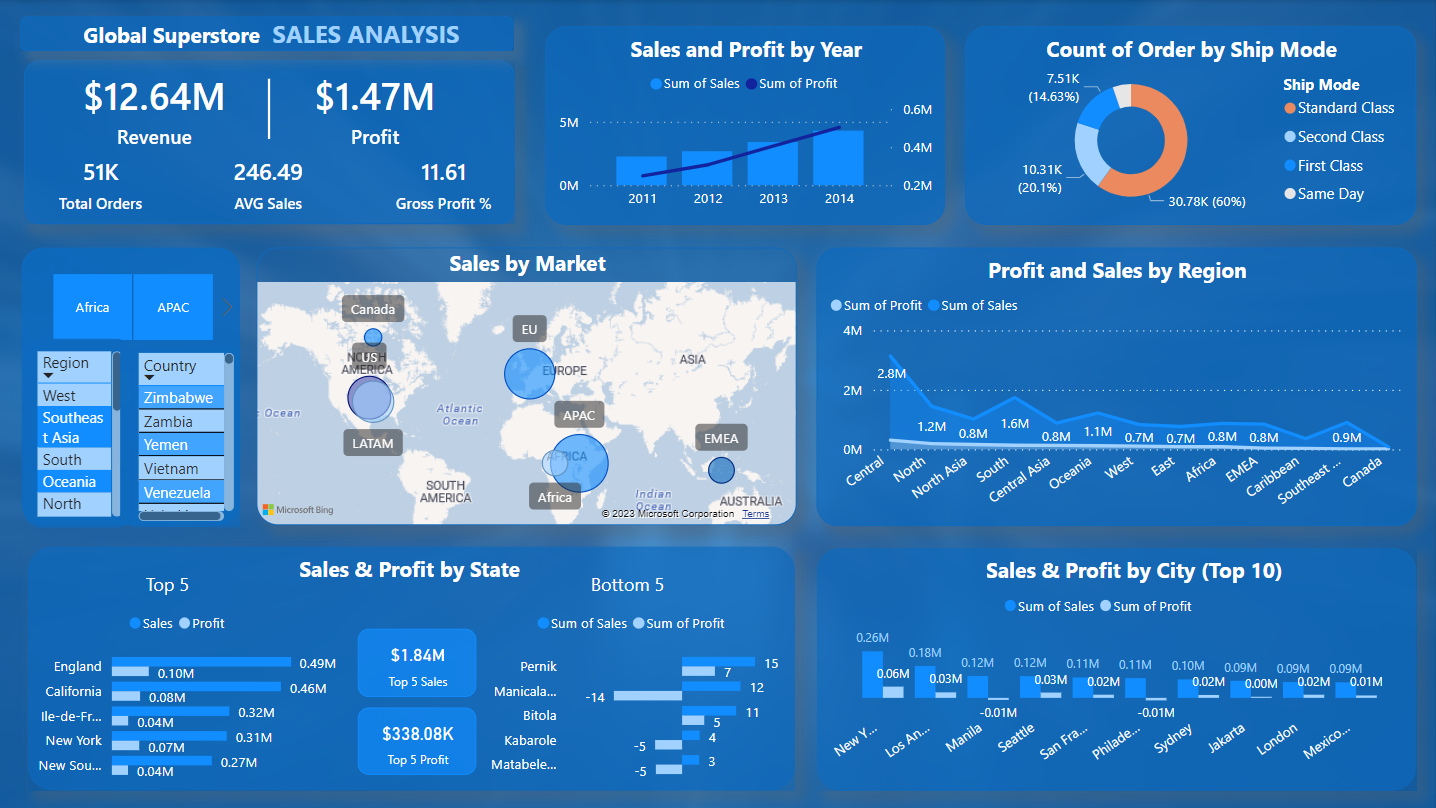

Layout of this report page (visuals, bound fields, positions):
{"tool":"powerbi","page":{"name":"Page 1","canvas":[1280,720],"ordinal":0},"visuals":[{"type":"shape","box":[0,0,1279.3,720.4],"z":0},{"type":"shape","box":[22.1,53.4,436.9,146.4],"z":1000},{"type":"shape","title":"Shape","box":[26,486.3,683.6,217.8],"z":2000},{"type":"shape","box":[19.8,220.8,194,247.5],"z":3000},{"type":"card","title":"Revenue","fields":{"Values":["Global Superstore - Orders.Total sales"]},"box":[37.2,50,203.3,93],"z":4000},{"type":"card","fields":{"Values":["Global Superstore - Orders.sum of profit"]},"box":[231.2,50,206.8,93],"z":5000},{"type":"card","fields":{"Values":["Global Superstore - Orders.Total Orders"]},"box":[22.1,126.7,135.9,72],"z":6000},{"type":"shape","box":[727.4,487.7,534.2,216.4],"z":7000},{"type":"card","fields":{"Values":["Global Superstore - Orders.Gross Profit %"]},"box":[332.3,126.7,126.7,72],"z":8000},{"type":"card","fields":{"Values":["Global Superstore - Orders.AVG Sales"]},"box":[170.8,126.7,138.3,72],"z":9000},{"type":"lineStackedColumnComboChart","title":"Sales and Profit by Year","fields":{"Category":["Global Superstore - Orders.Order Date.Variation.Date Hierarchy.Year"],"Y2":["Sum(Global Superstore - Orders.Profit)"],"Y":["Sum(Global Superstore - Orders.Sales)"]},"box":[486.3,23.3,356.2,176.7],"z":10000},{"type":"donutChart","title":"Count of Order by Ship Mode","fields":{"Category":["Global Superstore - Orders.Ship Mode"],"Y":["CountNonNull(Global Superstore - Orders.Order ID)"]},"box":[860.3,23.3,401.4,176.7],"z":11000},{"type":"slicer","fields":{"Values":["Global Superstore - Orders.Market"]},"box":[21.8,236.8,192,72.4],"z":12000},{"type":"stackedAreaChart","title":"Profit and Sales by Region","fields":{"Category":["Global Superstore - Orders.Region"],"Y":["Sum(Global Superstore - Orders.Profit)","Sum(Global Superstore - Orders.Sales)"]},"box":[727.4,220.5,534.2,247.9],"z":13000},{"type":"map","title":"Sales by Market","fields":{"Size":["Sum(Global Superstore - Orders.Sales)"],"Category":["Global Superstore - Orders.Market"]},"box":[228.9,220.8,481,247.5],"z":14000},{"type":"tableEx","fields":{"Values":["Global Superstore - Orders.Country"]},"box":[118.4,309.2,96.6,159.8],"z":15000},{"type":"tableEx","fields":{"Values":["Global Superstore - Orders.Region"]},"box":[21.8,301.1,96.6,167.8],"z":16000},{"type":"clusteredBarChart","fields":{"Category":["Global Superstore - Orders.State"],"Y":["Sum(Global Superstore - Orders.Sales)","Sum(Global Superstore - Orders.Profit)"]},"box":[16.1,535.6,289.7,169],"z":17000},{"type":"clusteredBarChart","fields":{"Y":["Sum(Global Superstore - Orders.Sales)","Sum(Global Superstore - Orders.Profit)"],"Category":["Global Superstore - Orders.State"]},"box":[419.2,535.6,290.4,168.5],"z":18000},{"type":"clusteredColumnChart","fields":{"Category":["Global Superstore - Orders.City"],"Y":["Sum(Global Superstore - Orders.Sales)","Sum(Global Superstore - Orders.Profit)"]},"box":[709.6,519.2,541.1,169.9],"z":19000},{"type":"textbox","box":[0,504.3,299.8,31.4],"z":20000},{"type":"textbox","box":[409.6,504.1,300,31.5],"z":21000},{"type":"textbox","box":[859.8,489.2,300.9,46.5],"z":22000},{"type":"shape","box":[224.3,69.7,31.4,53.4],"z":23000},{"type":"card","fields":{"Values":["Global Superstore - Orders.Top 5 Sales"]},"box":[319.5,559.8,105.7,60.9],"z":24000},{"type":"card","fields":{"Values":["Global Superstore - Orders.Top 5 Profit"]},"box":[319.5,629.9,105.7,59.8],"z":25000},{"type":"shape","box":[19.2,14.4,439.1,31.2],"z":25500},{"type":"textbox","box":[218.5,488.9,300,46.9],"z":26000},{"type":"textbox","box":[69.7,10.5,384.6,40.7],"z":27000}]}

Visuals, with their boxes in screenshot pixels (x1, y1, x2, y2), scaled from the page's 1280x720 canvas onto the 1436x808 screenshot:
shape: (left=0, top=0, right=1435, bottom=807)
shape: (left=25, top=60, right=515, bottom=224)
"Shape" shape: (left=29, top=546, right=796, bottom=790)
shape: (left=22, top=248, right=240, bottom=526)
"Revenue" card: (left=42, top=56, right=270, bottom=160)
card - Global Superstore - Orders.sum of profit: (left=259, top=56, right=491, bottom=160)
card - Global Superstore - Orders.Total Orders: (left=25, top=142, right=177, bottom=223)
shape: (left=816, top=547, right=1415, bottom=790)
card - Global Superstore - Orders.Gross Profit %: (left=373, top=142, right=515, bottom=223)
card - Global Superstore - Orders.AVG Sales: (left=192, top=142, right=347, bottom=223)
"Sales and Profit by Year" lineStackedColumnComboChart: (left=546, top=26, right=945, bottom=224)
"Count of Order by Ship Mode" donutChart: (left=965, top=26, right=1415, bottom=224)
slicer - Global Superstore - Orders.Market: (left=24, top=266, right=240, bottom=347)
"Profit and Sales by Region" stackedAreaChart: (left=816, top=247, right=1415, bottom=526)
"Sales by Market" map: (left=257, top=248, right=796, bottom=526)
tableEx - Global Superstore - Orders.Country: (left=133, top=347, right=241, bottom=526)
tableEx - Global Superstore - Orders.Region: (left=24, top=338, right=133, bottom=526)
clusteredBarChart - Global Superstore - Orders.State x Sum(Global Superstore - Orders.Sales): (left=18, top=601, right=343, bottom=791)
clusteredBarChart - Sum(Global Superstore - Orders.Sales) x Sum(Global Superstore - Orders.Profit): (left=470, top=601, right=796, bottom=790)
clusteredColumnChart - Global Superstore - Orders.City x Sum(Global Superstore - Orders.Sales): (left=796, top=583, right=1403, bottom=773)
textbox: (left=0, top=566, right=336, bottom=601)
textbox: (left=460, top=566, right=796, bottom=601)
textbox: (left=965, top=549, right=1302, bottom=601)
shape: (left=252, top=78, right=287, bottom=138)
card - Global Superstore - Orders.Top 5 Sales: (left=358, top=628, right=477, bottom=697)
card - Global Superstore - Orders.Top 5 Profit: (left=358, top=707, right=477, bottom=774)
shape: (left=22, top=16, right=514, bottom=51)
textbox: (left=245, top=549, right=582, bottom=601)
textbox: (left=78, top=12, right=510, bottom=57)
